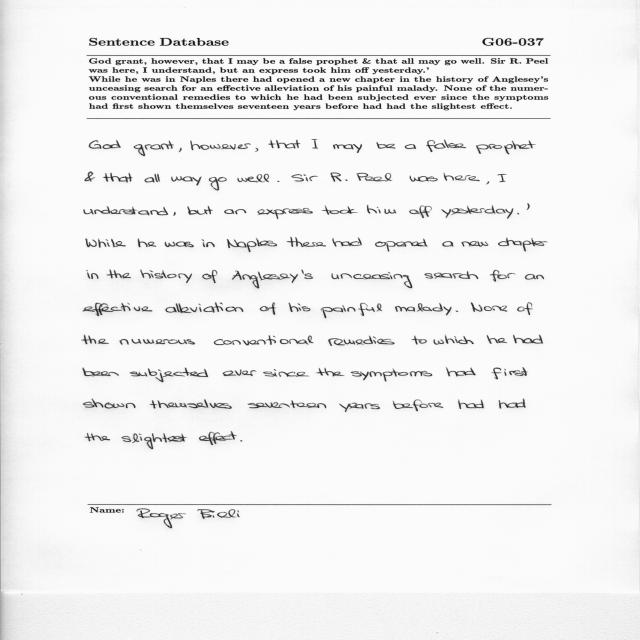word: (232, 270, 313, 289), (332, 272, 413, 288), (130, 368, 208, 383), (121, 433, 187, 449), (351, 369, 432, 382), (441, 205, 514, 219), (214, 336, 314, 346), (321, 303, 382, 318), (83, 303, 152, 316), (476, 141, 536, 155), (84, 206, 168, 216), (149, 399, 232, 409), (166, 303, 243, 313), (227, 238, 277, 252), (375, 239, 428, 252), (498, 238, 547, 252), (395, 303, 452, 315), (140, 270, 192, 283), (328, 336, 395, 346), (248, 401, 326, 409), (257, 208, 313, 219), (190, 140, 251, 150), (134, 141, 174, 156), (393, 400, 443, 411), (84, 399, 136, 409), (199, 432, 237, 445), (426, 140, 466, 152), (119, 339, 195, 345), (425, 271, 479, 279), (492, 368, 528, 380), (287, 237, 326, 247), (433, 336, 474, 345), (339, 403, 380, 412), (263, 369, 309, 377), (86, 239, 126, 248), (356, 173, 392, 182), (322, 206, 358, 215), (471, 303, 507, 312), (83, 368, 119, 377), (490, 270, 516, 282), (268, 140, 301, 149), (103, 173, 132, 183), (89, 140, 121, 149), (237, 174, 269, 183), (444, 173, 480, 181), (409, 206, 432, 218), (172, 177, 202, 186), (332, 238, 362, 247), (513, 335, 543, 344), (446, 368, 476, 377), (499, 399, 526, 409), (333, 144, 362, 153), (367, 205, 396, 214), (316, 368, 345, 377), (209, 177, 227, 191), (82, 335, 109, 344), (187, 206, 213, 215), (458, 400, 484, 409), (107, 270, 131, 279), (260, 302, 276, 315), (409, 175, 438, 182), (85, 433, 110, 441), (289, 303, 311, 312), (223, 370, 256, 376), (203, 270, 218, 283), (517, 303, 533, 315), (291, 175, 318, 182), (330, 172, 348, 182), (487, 335, 507, 344), (165, 242, 194, 248), (461, 241, 488, 247), (138, 239, 157, 247), (145, 174, 160, 183), (377, 142, 396, 149), (412, 336, 427, 344), (525, 274, 544, 280), (224, 209, 246, 214), (87, 270, 99, 279), (202, 239, 215, 247), (85, 172, 95, 182), (497, 174, 507, 182), (443, 241, 454, 247), (311, 140, 318, 149), (405, 144, 416, 149), (526, 204, 530, 210), (179, 148, 182, 152), (255, 148, 258, 152), (173, 212, 176, 216), (486, 182, 489, 185), (456, 310, 458, 312), (240, 440, 242, 442), (278, 181, 280, 182), (517, 213, 519, 214)
